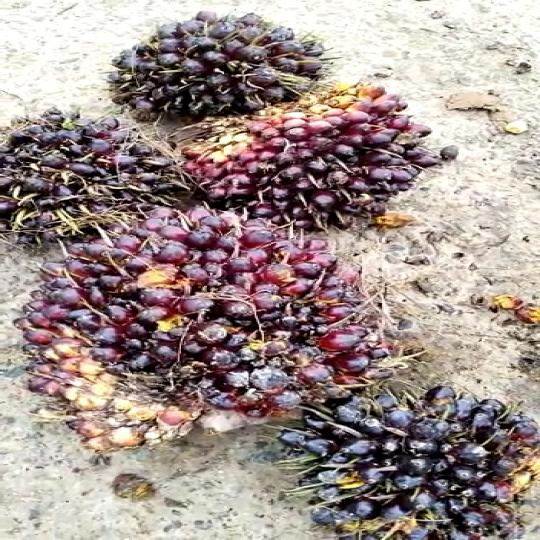kurang masak: (204, 94, 465, 250), (86, 0, 336, 121), (0, 93, 160, 234)
